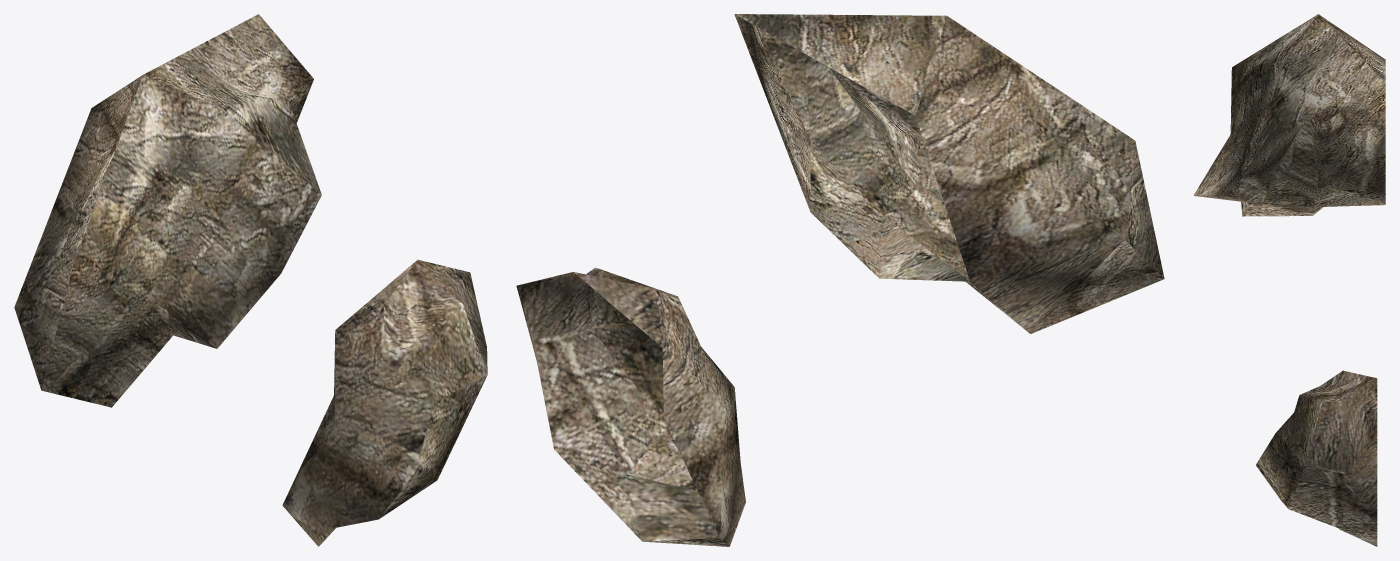
Rendered from Desert_rock_09.obj.
3 renders of one model, left to right at view 1: azimuth 30°, elevation 25°; view 2: azimuth 150°, elevation 25°; view 3: azimuth 270°, elevation 25°, orthographic. The views are drawn at different scales.
Visible parts, largest first — view 1: box52; view 2: box52; view 3: box52.
Boxes of the visible parts, left/top/right/bottom form: box52: left=14, top=14, right=487, bottom=546; box52: left=516, top=14, right=1164, bottom=546; box52: left=1193, top=14, right=1385, bottom=546.
Bounding box in the file's own units: 0.8765 × 0.8592 × 0.3411.
